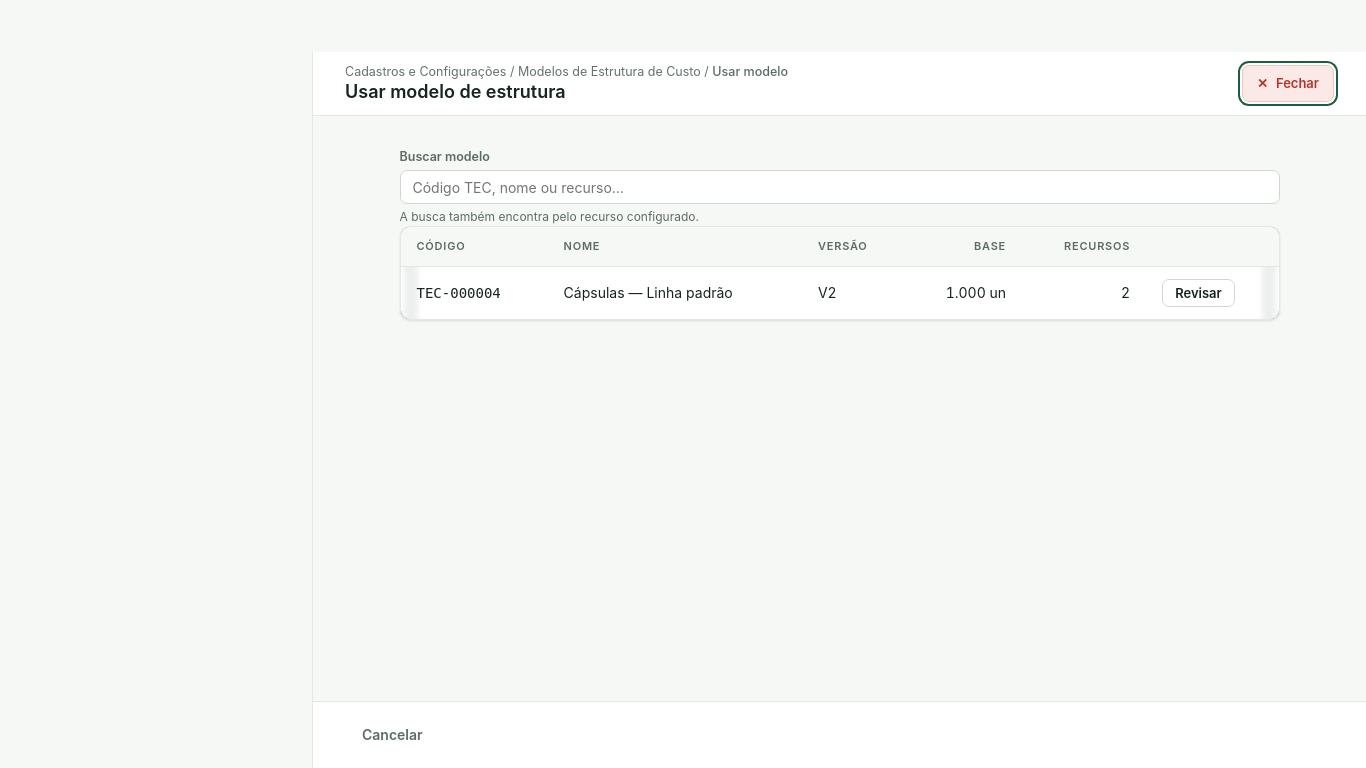
Usar template numa estrutura de custos › a prévia mostra configuração e nenhuma tarifa
Click the button "Revisar".
click(1198, 294)  # box [1162, 280, 1235, 308]
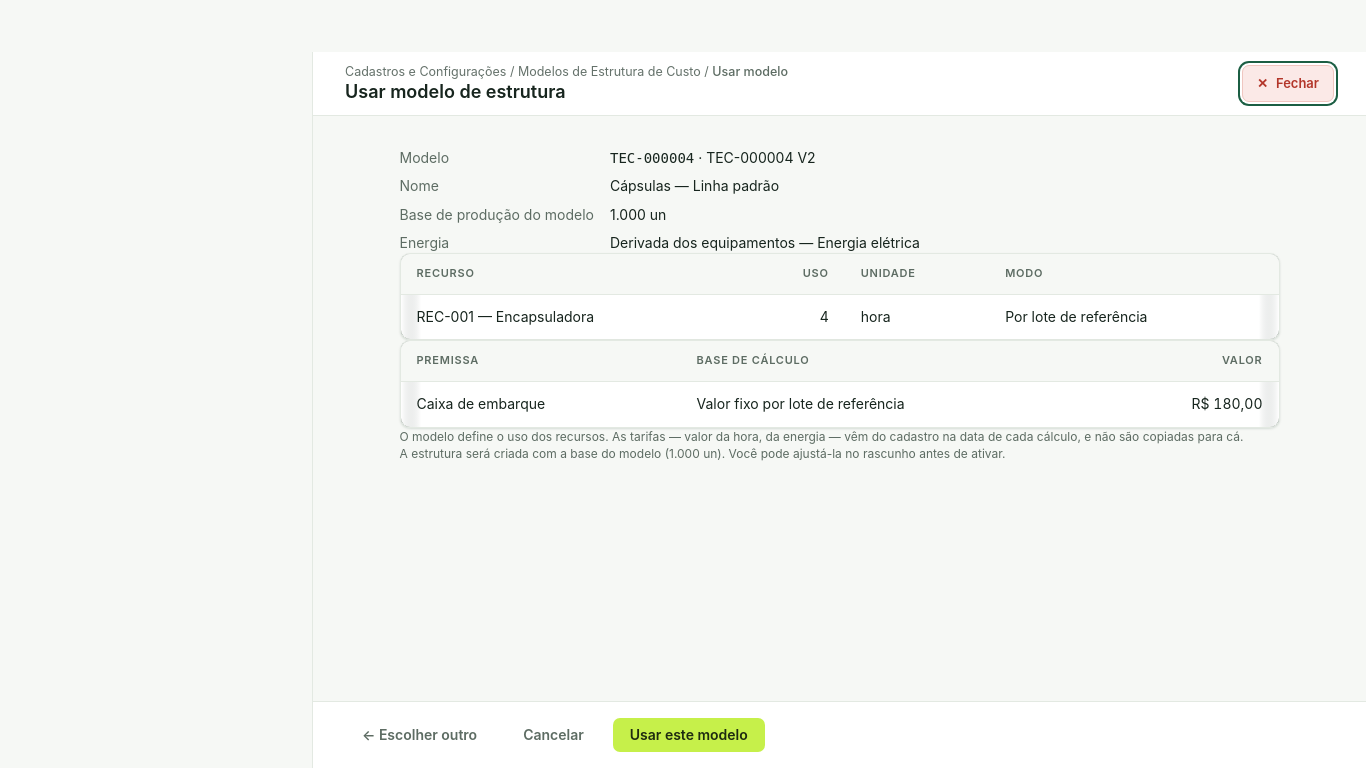
Result: the text "REC-001 — Encapsuladora" is shown at [400, 295, 748, 339]
Result: the text "4" is shown at [748, 295, 845, 339]
Result: the text "As tarifas — valor da hora, da energia — vêm do cadastro na data" is shown at [400, 429, 1244, 444]
